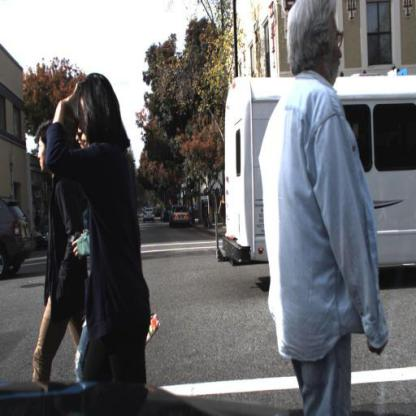car: (2, 198, 36, 284), (172, 207, 192, 229), (142, 205, 156, 225)
pedestrian: (258, 2, 393, 415), (269, 1, 360, 416), (47, 73, 152, 399), (34, 118, 97, 390), (406, 167, 416, 231), (220, 195, 226, 229)
truck: (222, 68, 416, 293)
